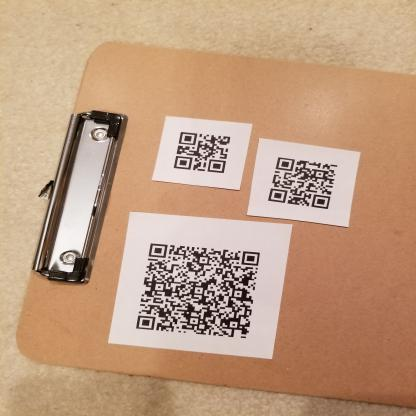qr: (134, 236, 267, 346), (264, 151, 343, 219), (167, 125, 232, 182)
